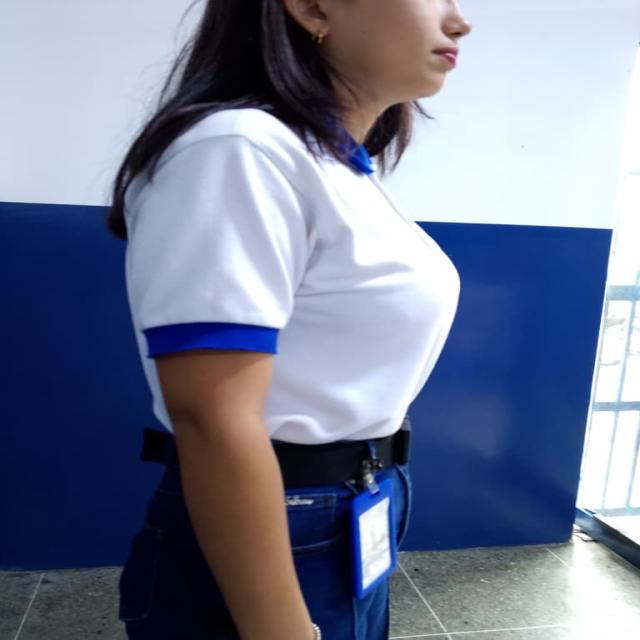carnet: (358, 496, 392, 590)
uniforme_superior: (123, 96, 461, 446)
